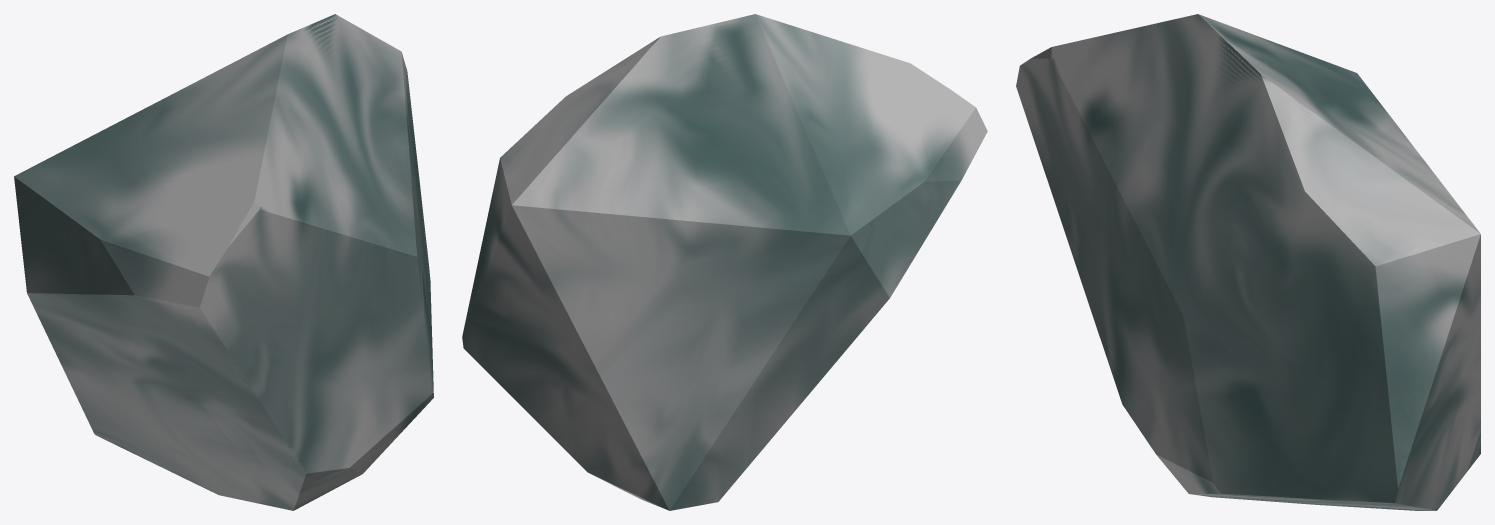
Rendered from ProyectilCatapultaMio.fbx.
The picture shows the model from 3 angles, left to right: view 1: azimuth 30°, elevation 25°; view 2: azimuth 150°, elevation 25°; view 3: azimuth 270°, elevation 25°; orthographic projection. The views are drawn at different scales.
Visible parts, largest first — view 1: PiedraCatapulta; view 2: PiedraCatapulta; view 3: PiedraCatapulta.
Part boxes in pixels (x1=…): PiedraCatapulta: x1=14, y1=14, x2=433, y2=510; PiedraCatapulta: x1=462, y1=14, x2=987, y2=510; PiedraCatapulta: x1=1016, y1=14, x2=1480, y2=510.
Bounding box in the file's own units: 4.77 × 5.07 × 4.32.
Materials: 1 (1 with a texture image).
